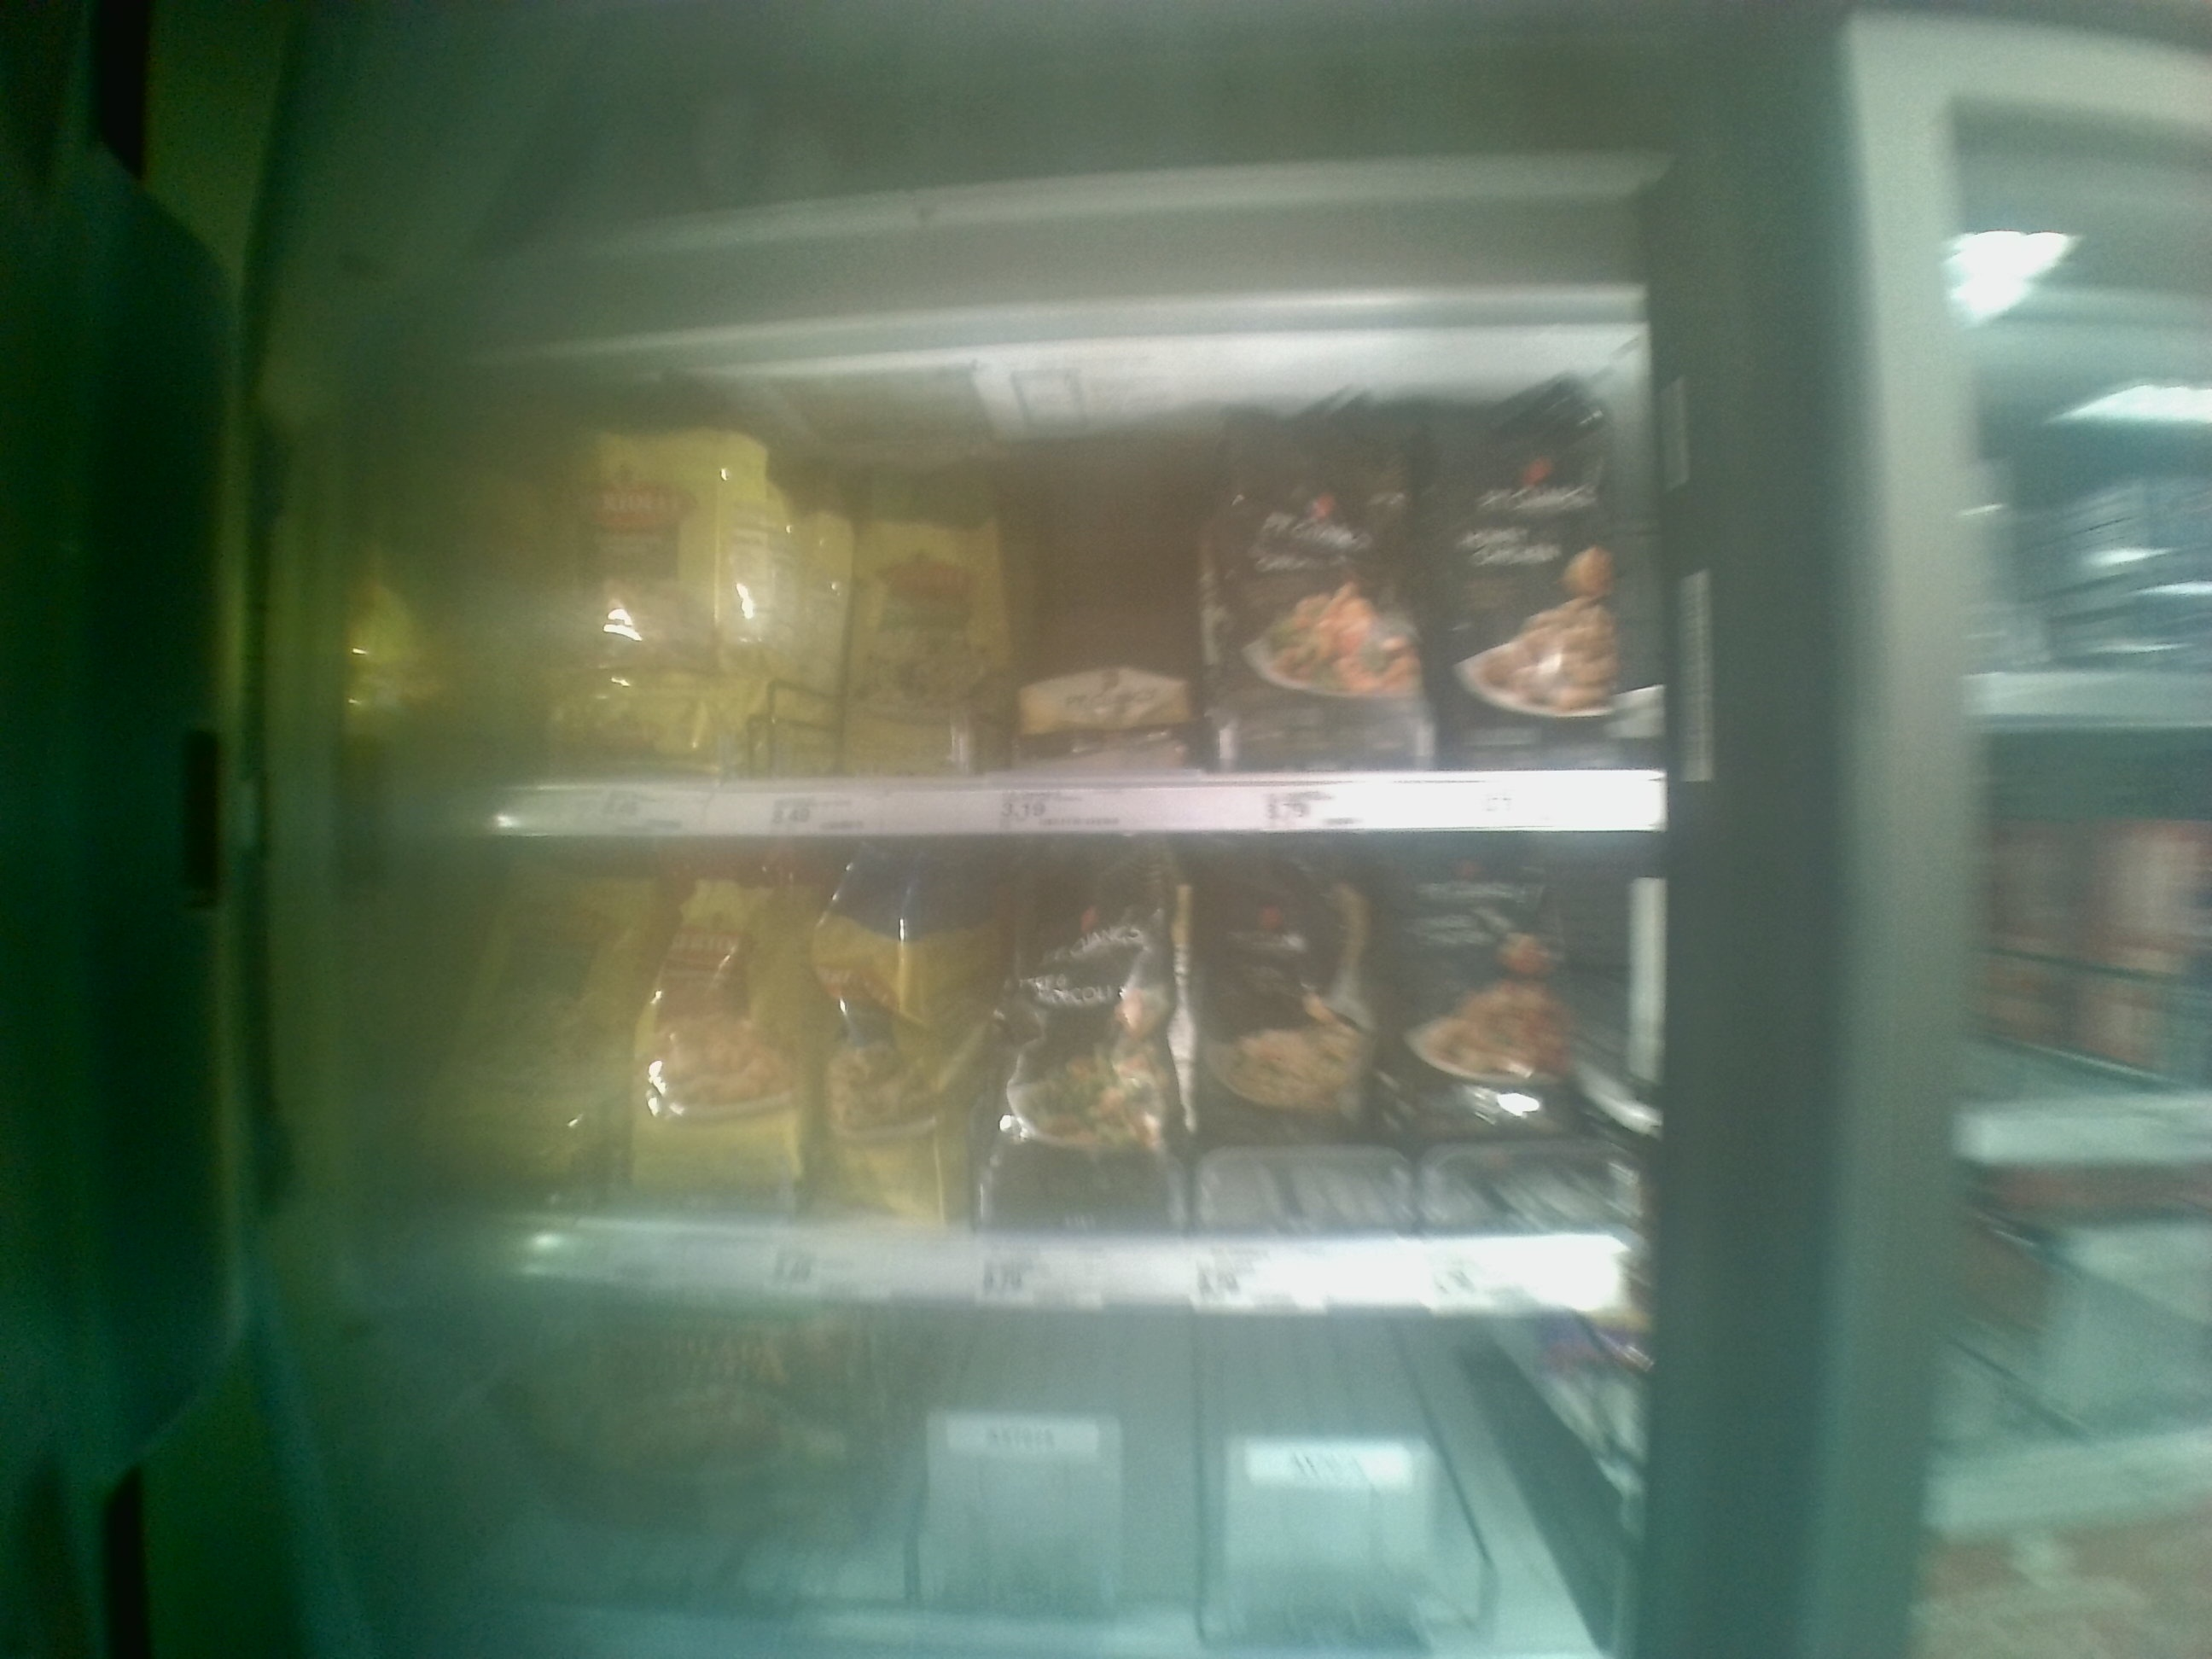shelf: (411, 843, 1629, 1310), (409, 382, 1644, 824), (425, 1312, 1622, 1656)
